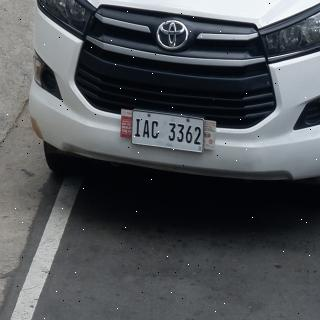license: (132, 111, 205, 154)
